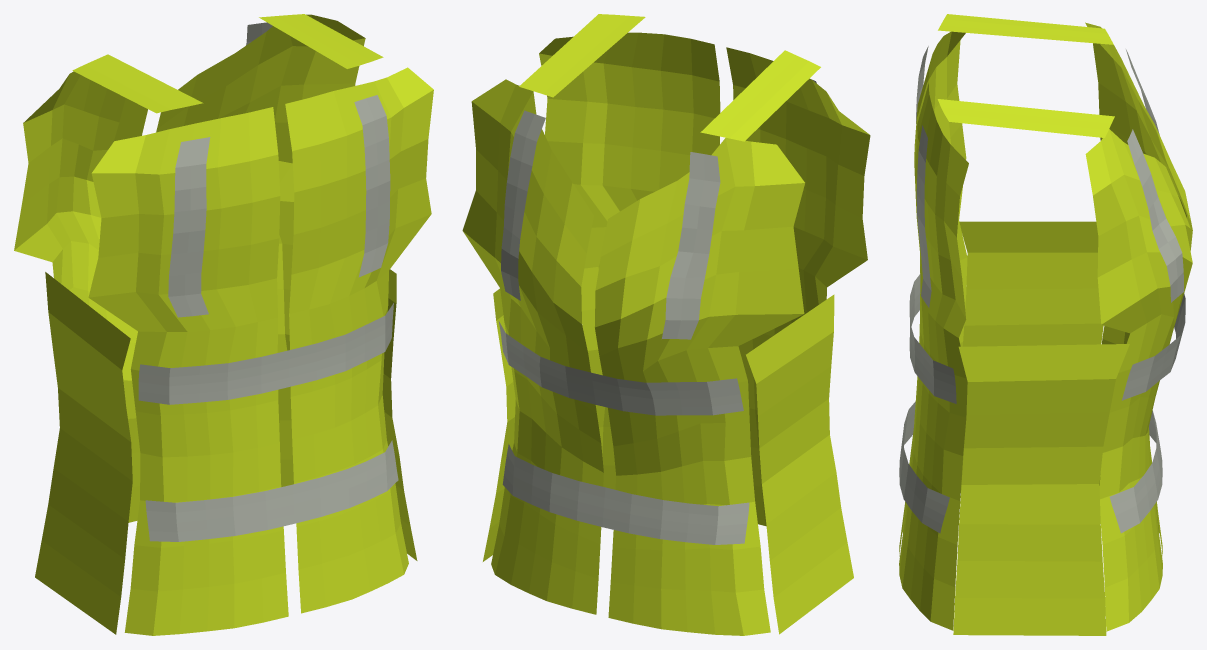
The model's file is lwf_steward_female_overlay_v2.glb.
The picture shows the model from 3 angles, left to right: view 1: azimuth 30°, elevation 25°; view 2: azimuth 150°, elevation 25°; view 3: azimuth 270°, elevation 25°; orthographic projection. The views are drawn at different scales.
Parts seen in each view (by area): view 1: LWF_Steward_Female_Overlay; view 2: LWF_Steward_Female_Overlay; view 3: LWF_Steward_Female_Overlay.
Part boxes in pixels (<box>): LWF_Steward_Female_Overlay: <box>14,14,433,635</box>; LWF_Steward_Female_Overlay: <box>462,14,870,635</box>; LWF_Steward_Female_Overlay: <box>899,14,1192,635</box>.
Size of the model in its own units: 0.3115 by 0.4381 by 0.2333.
1 material, 1 textured.
